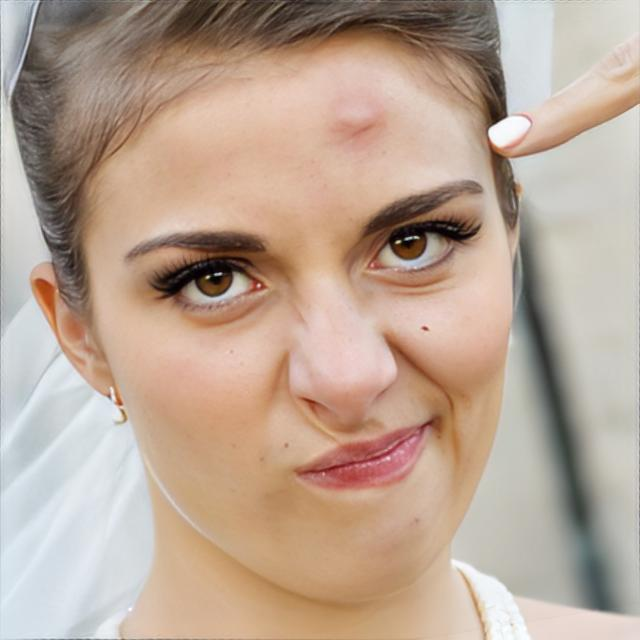content: (80, 1, 513, 610)
